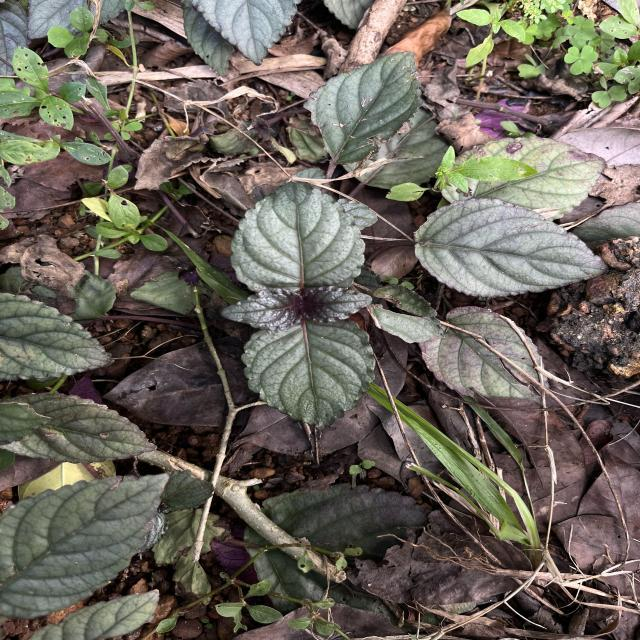Hemigraphis colorata: (0, 470, 172, 623), (412, 196, 612, 300), (228, 178, 369, 294), (238, 318, 378, 432), (300, 48, 426, 165), (1, 390, 160, 464), (0, 292, 117, 384), (218, 286, 304, 334), (304, 282, 374, 326)
